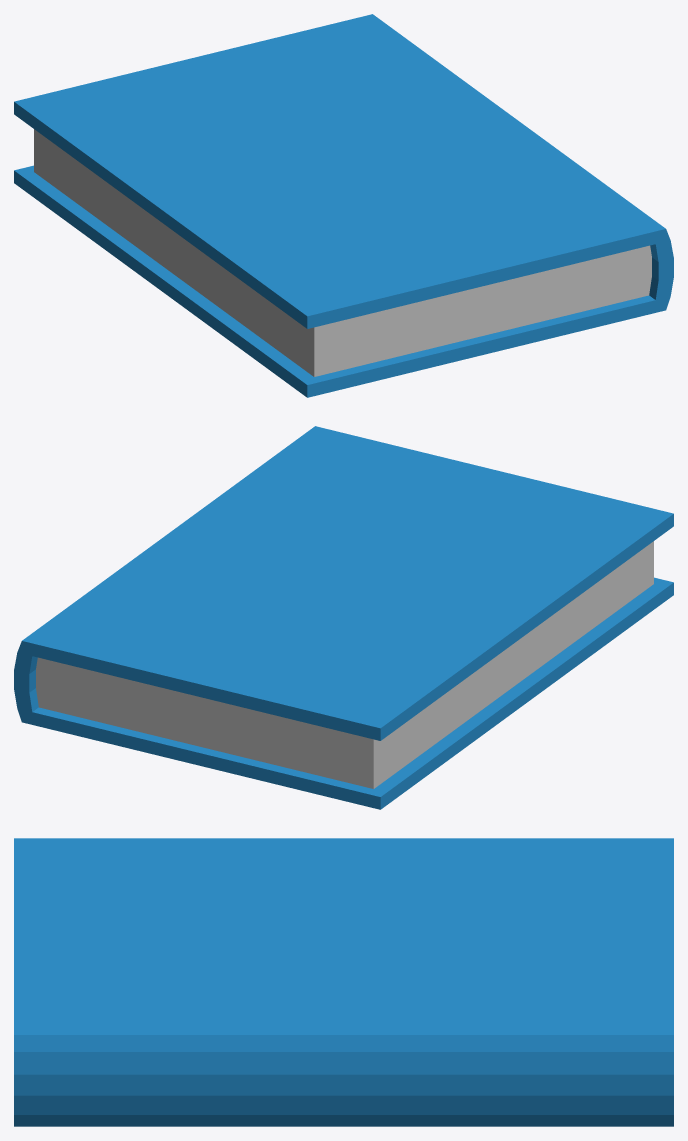
File: mod_book_closed.fbx
The picture shows the model from 3 angles, top to bottom: view 1: azimuth 30°, elevation 25°; view 2: azimuth 150°, elevation 25°; view 3: azimuth 270°, elevation 25°; orthographic projection. The views are drawn at different scales.
Parts seen in each view (by area): view 1: mod_book_closed; view 2: mod_book_closed; view 3: mod_book_closed.
Boxes of the visible parts, x1=… form: mod_book_closed: x1=14, y1=14, x2=673, y2=397; mod_book_closed: x1=14, y1=426, x2=673, y2=809; mod_book_closed: x1=14, y1=838, x2=673, y2=1126.
Size of the model in its own units: 22.19 by 4.72 by 30.77.
